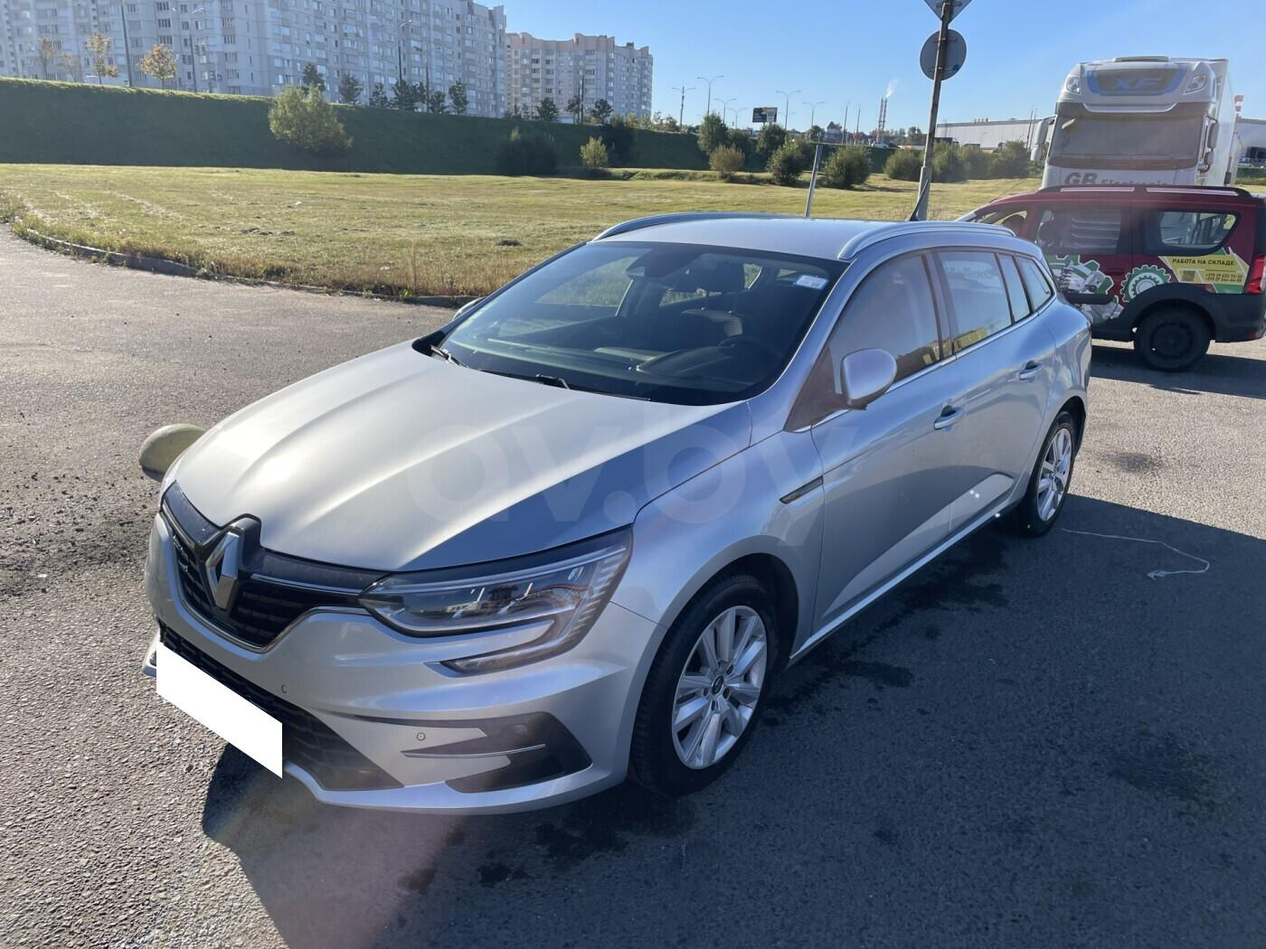Megane_2020: (134, 213, 1093, 812)
